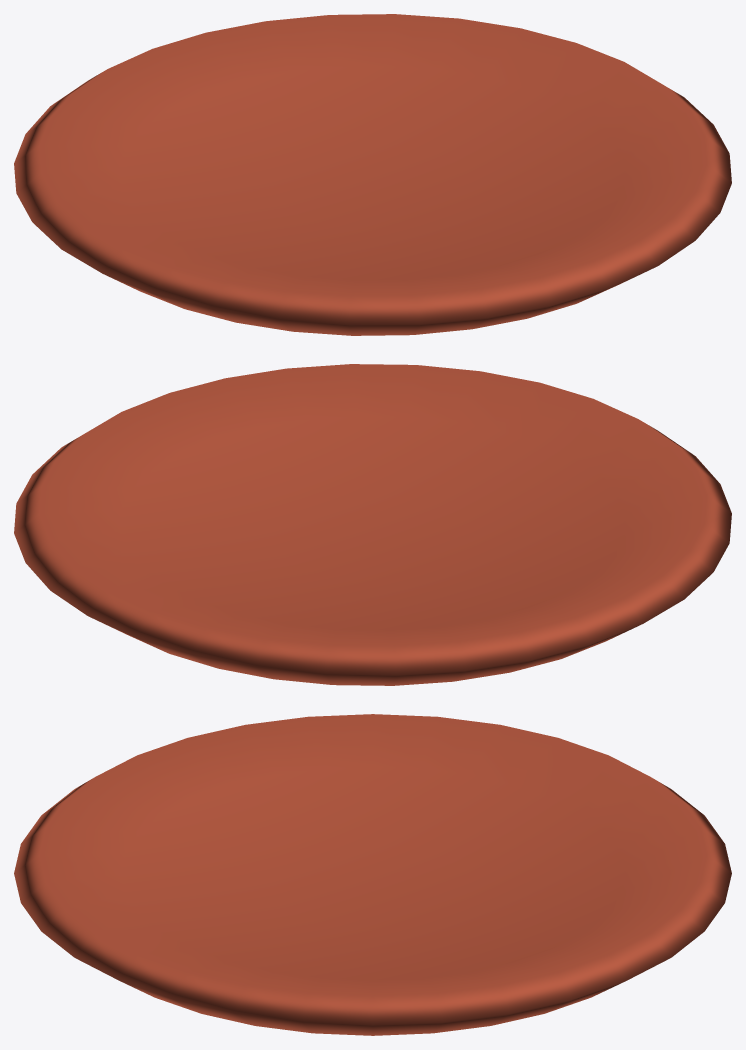
File: saucer.glb
3 views of the same model, one above another, from view 1: azimuth 30°, elevation 25°; view 2: azimuth 150°, elevation 25°; view 3: azimuth 270°, elevation 25° (orthographic).
Parts seen in each view (by area): view 1: surface-#B5543A,0,0.7; view 2: surface-#B5543A,0,0.7; view 3: surface-#B5543A,0,0.7.
Boxes of the visible parts, left/top/right/bottom form: surface-#B5543A,0,0.7: left=14, top=14, right=731, bottom=335; surface-#B5543A,0,0.7: left=14, top=364, right=731, bottom=685; surface-#B5543A,0,0.7: left=14, top=714, right=731, bottom=1035.
Bounding box in the file's own units: 0.142 × 0.016 × 0.142.
